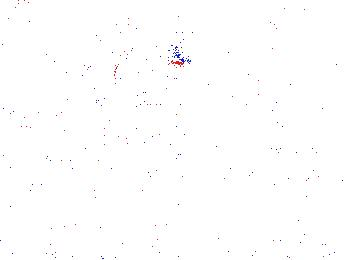moon jellyfish: (79, 1, 181, 71), (112, 45, 184, 115), (263, 1, 346, 47)
